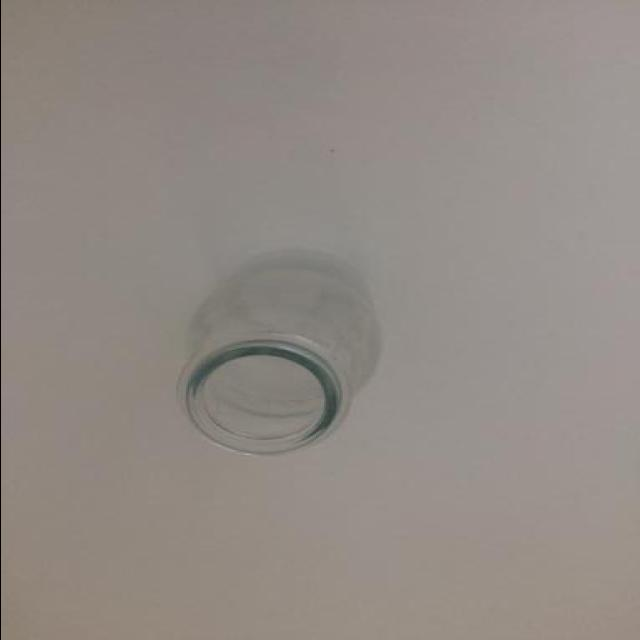glass: (146, 235, 392, 464)
